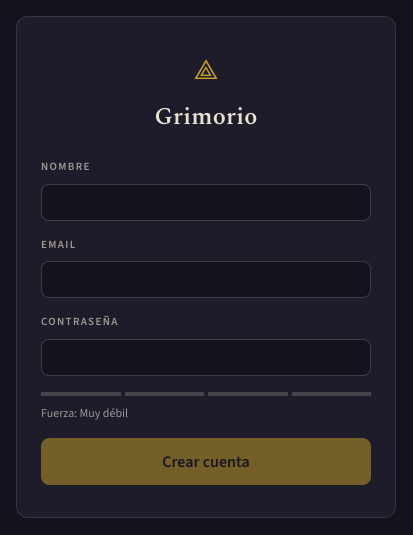
Test case: RegistroScreen › disables submit until name, email and password(>=8) are valid
Expected: the button "Crear cuenta" is disabled, [41,438,371,485]
Type "Lyra" into the field labelled "Nombre" at (206, 202), box [41,184,371,221]
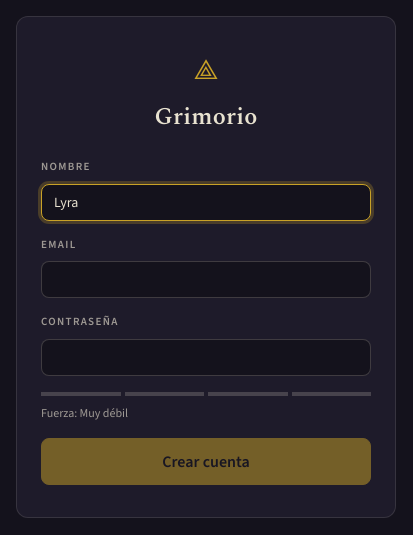
Expected: the button "Crear cuenta" is disabled, [41,438,371,485]
Type "lyra@example.com" into the field labelled "Email" at (206, 280), box [41,261,371,298]
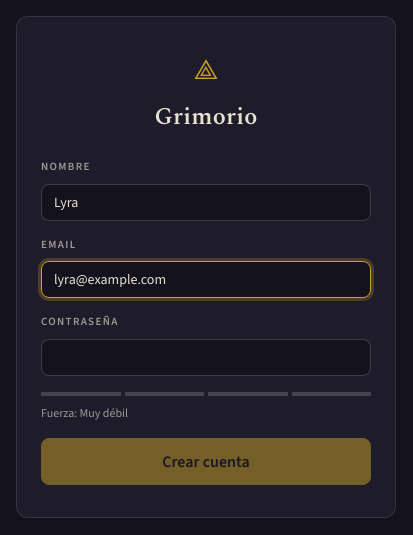
Expected: the button "Crear cuenta" is disabled, [41,438,371,485]
Type "short" into the password field labelled "Contraseña" at (206, 357), box [41,339,371,376]
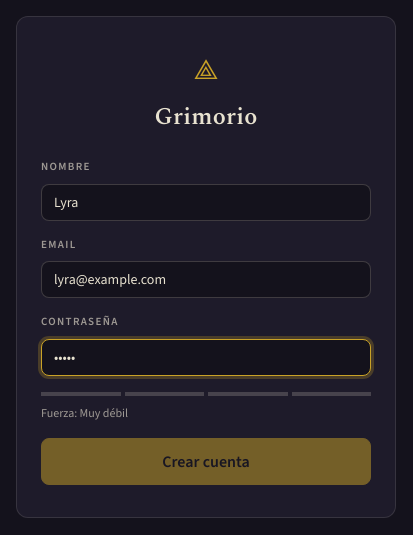
Expected: the button "Crear cuenta" is disabled, [41,438,371,485]
Type "1234" into the password field labelled "Contraseña" at (206, 357), box [41,339,371,376]
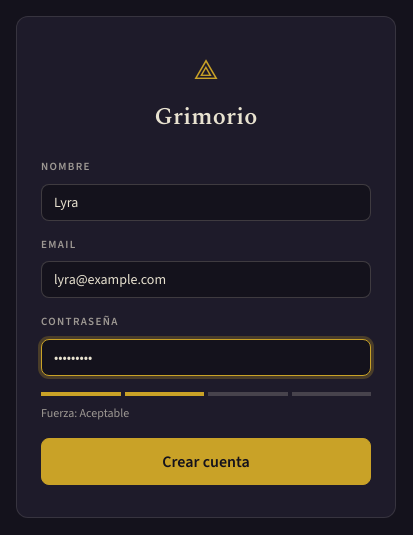
Expected: the button "Crear cuenta" is enabled, [41,438,371,485]
